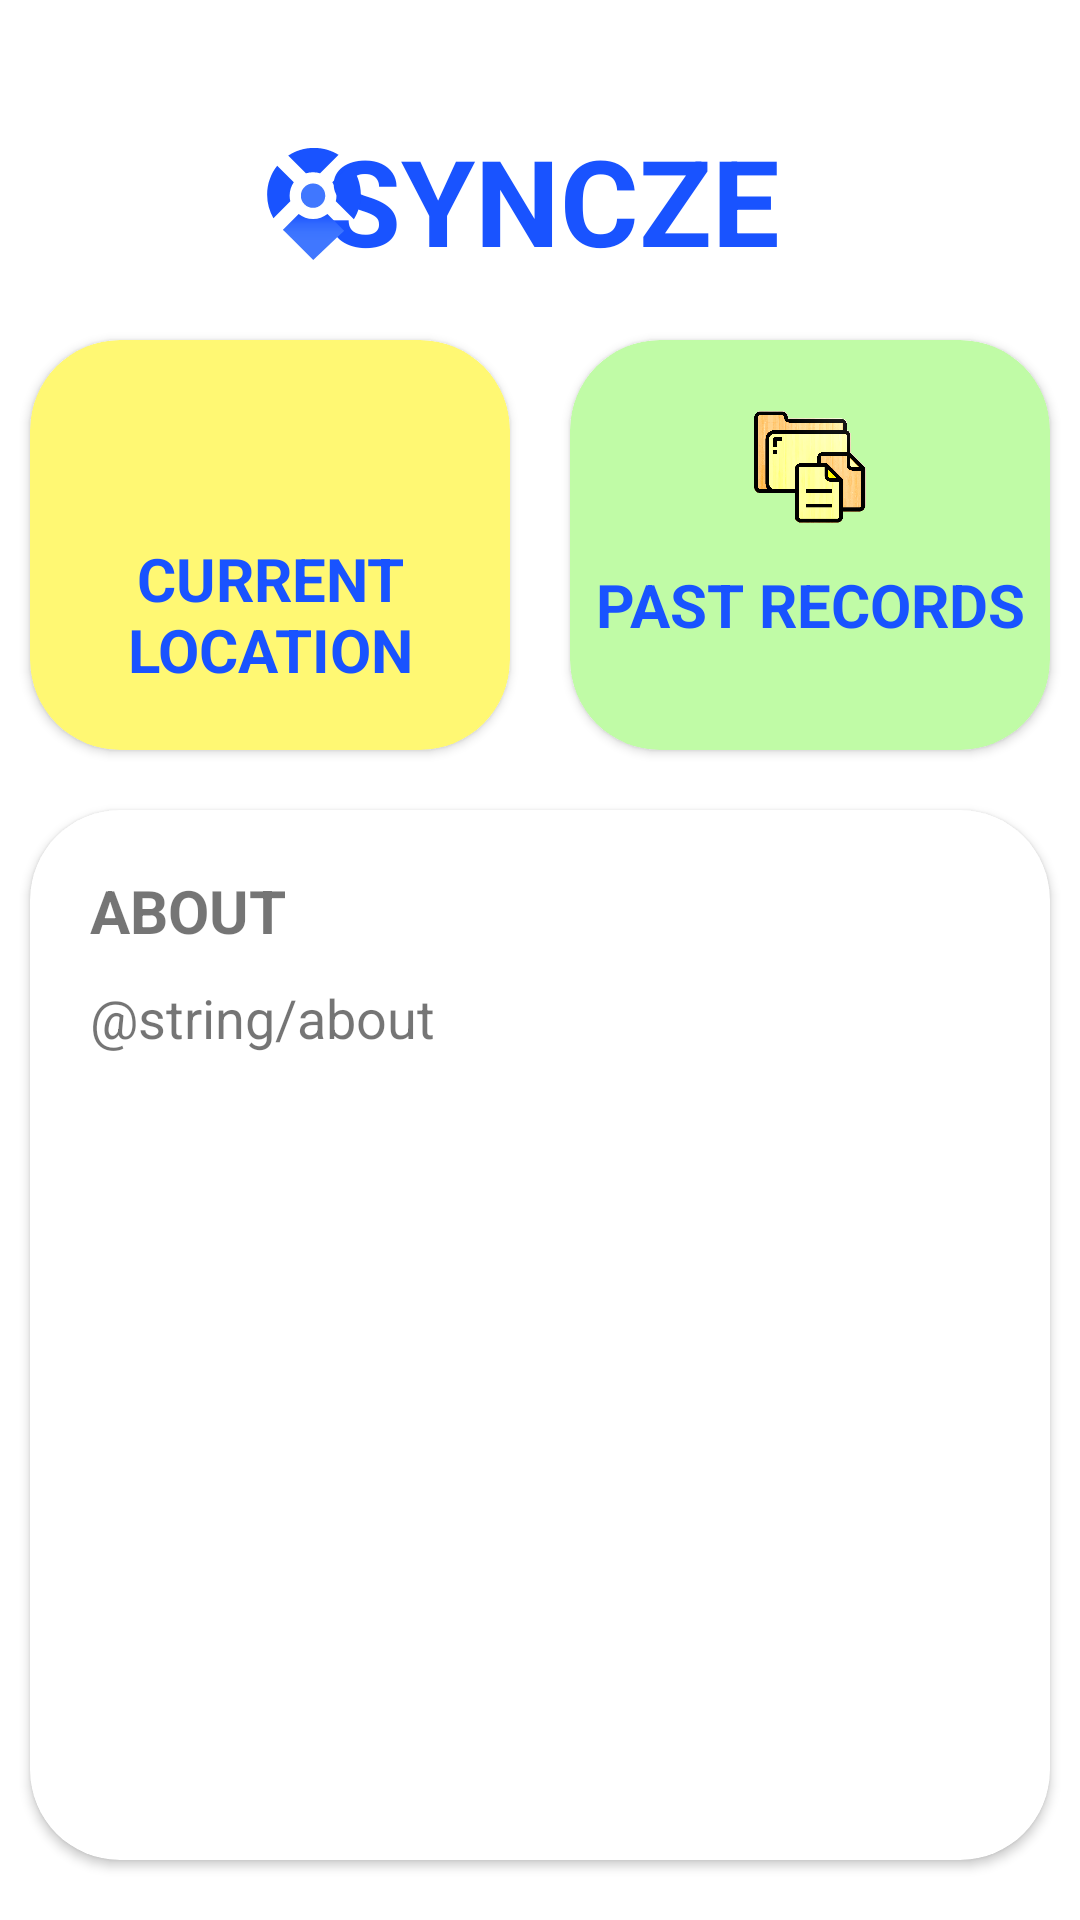

Named icons in this screenshot (1080 × 1920) and their centers, (x=x, y=y):
file: (x=810, y=467)
